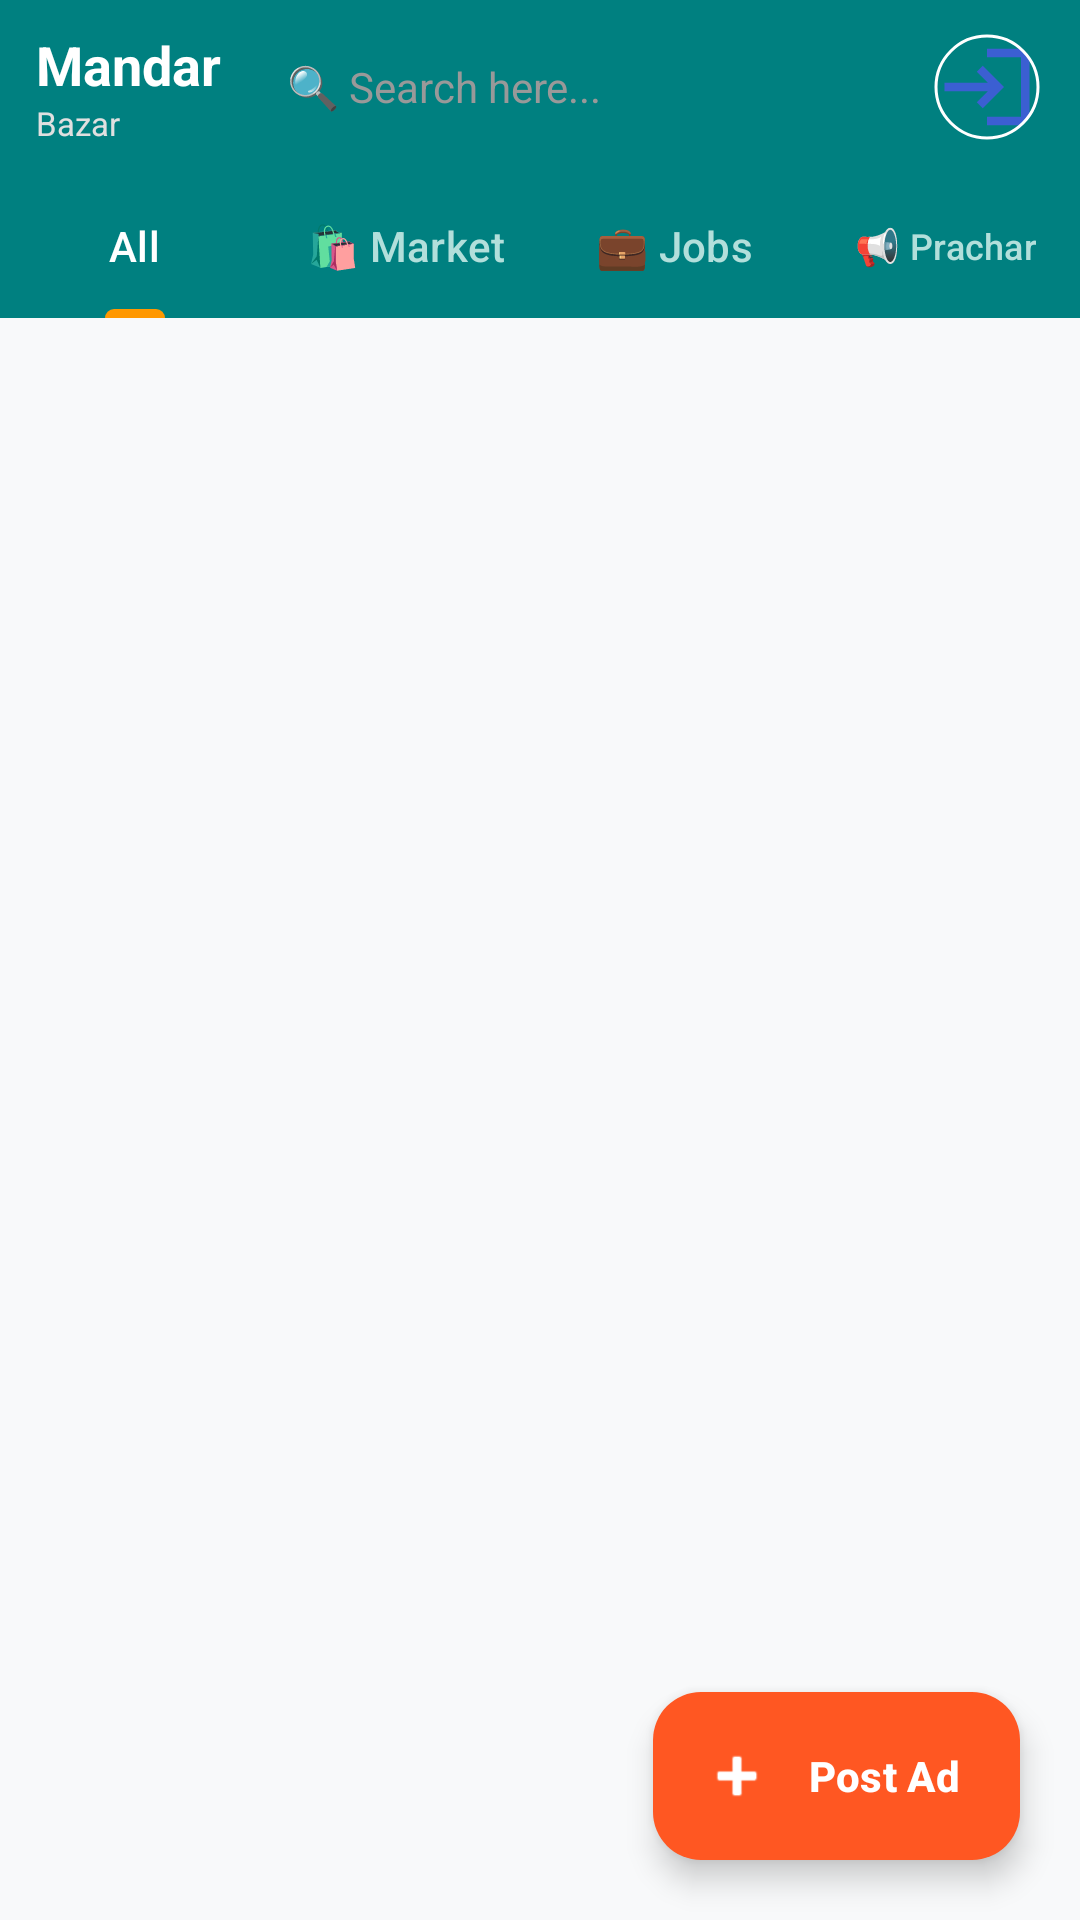

Icons on this 1080x1920 Android screen, each with its box as (x1, y1, x2, y2):
login: (934, 34, 1040, 140)
